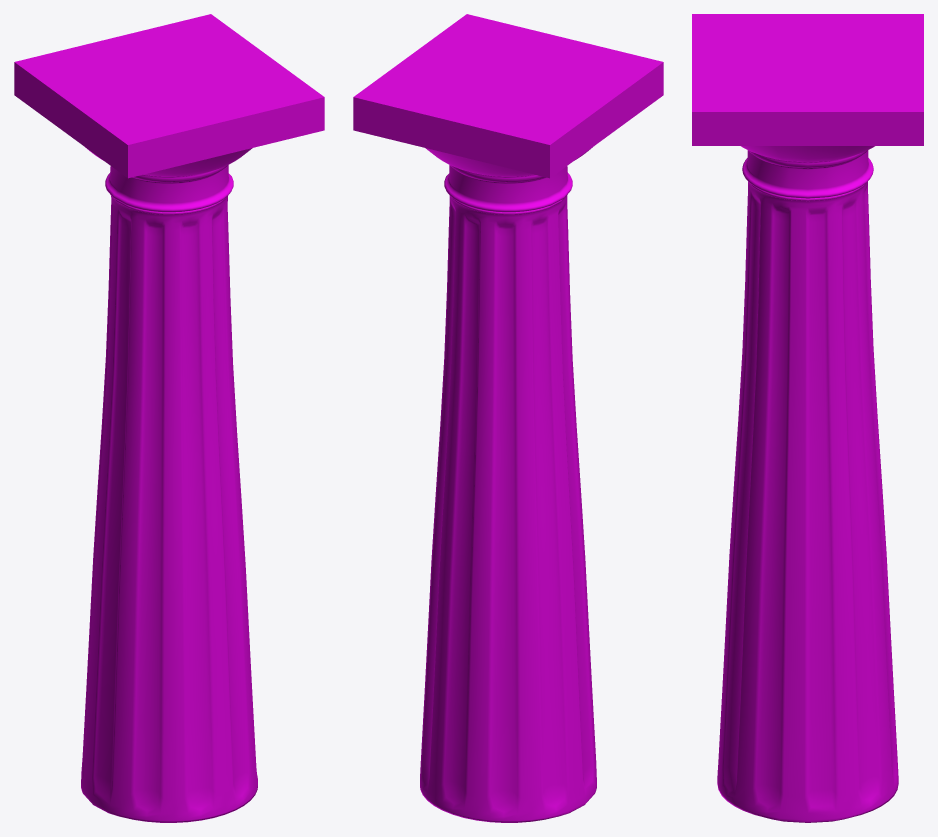
The model's file is Doric_Column_Lower_Div_Body.fbx.
3 renders of one model, left to right at view 1: azimuth 30°, elevation 25°; view 2: azimuth 150°, elevation 25°; view 3: azimuth 270°, elevation 25°, orthographic. The views are drawn at different scales.
Parts seen in each view (by area): view 1: Doric_Column_body_mesh, Doric_Column_slab_mesh; view 2: Doric_Column_body_mesh, Doric_Column_slab_mesh; view 3: Doric_Column_body_mesh, Doric_Column_slab_mesh.
Part boxes in pixels (x1,y1,x2,y2): Doric_Column_body_mesh: (81, 147, 257, 822); Doric_Column_slab_mesh: (14, 14, 324, 178); Doric_Column_body_mesh: (420, 147, 596, 822); Doric_Column_slab_mesh: (353, 14, 663, 178); Doric_Column_body_mesh: (717, 146, 898, 822); Doric_Column_slab_mesh: (692, 14, 923, 145).
Size of the model in its own units: 490 by 1682 by 490.
